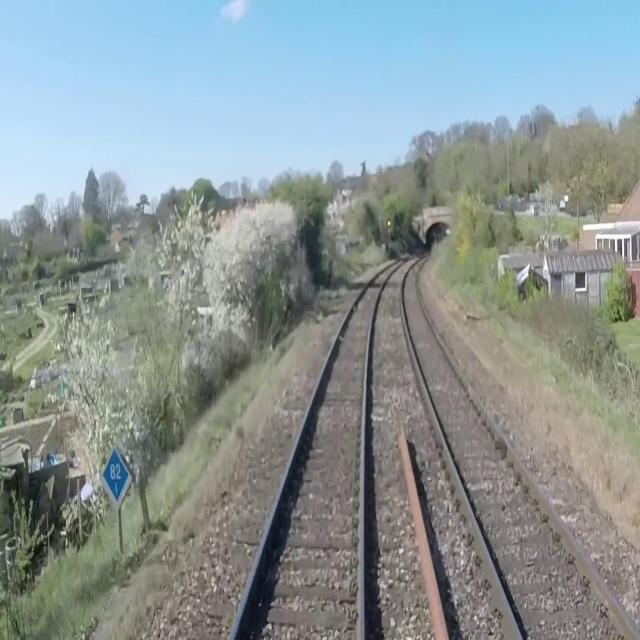rail-track: (402, 256, 638, 639), (233, 260, 402, 639)
